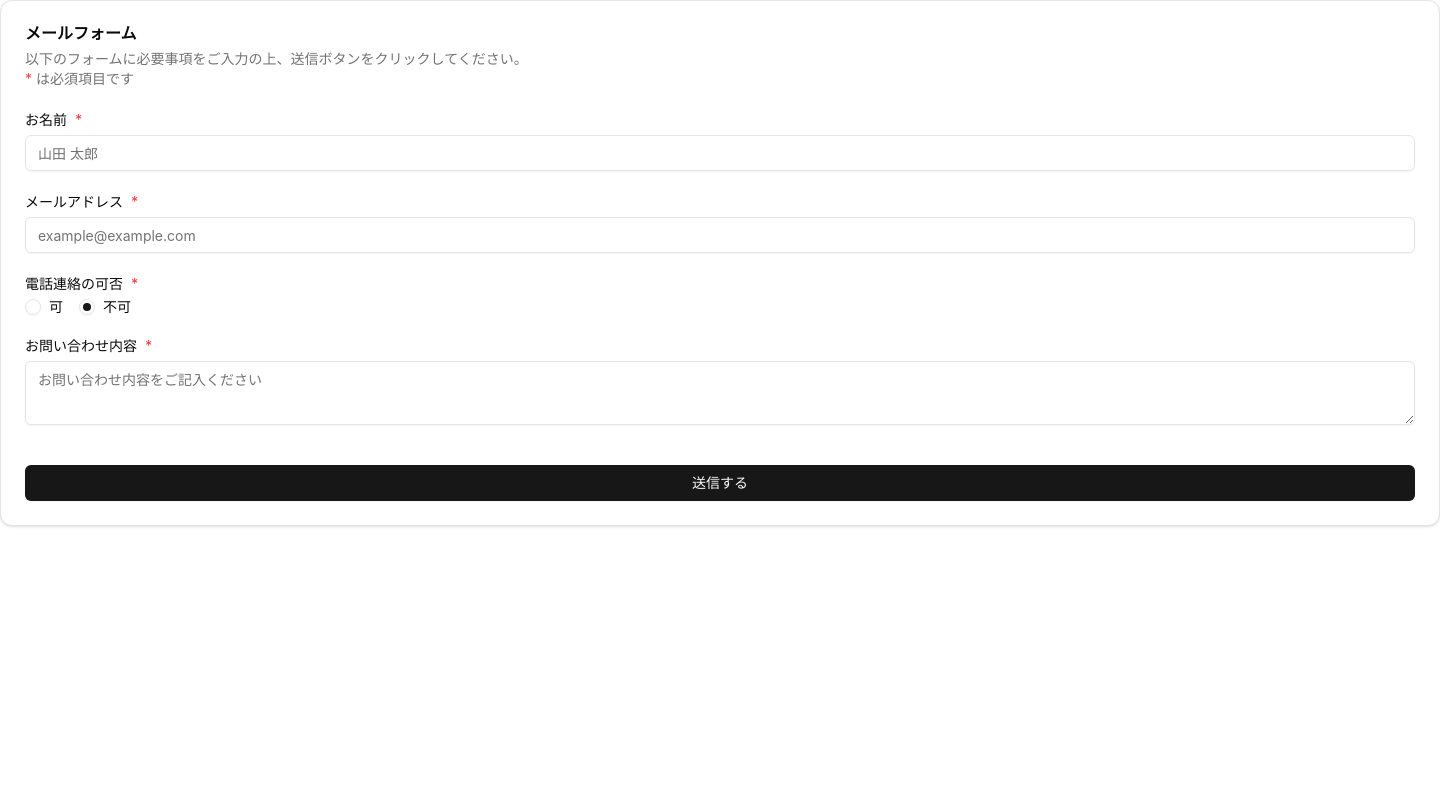
Test: ContactEmailForm › Conditional Display of Phone Number Field › shows phone number field with asterisk when "可" is selected
Expected: the field labelled "電話番号" is not shown
Click the 1st radio button named "可".
click(33, 307)  # box [25,299,41,315]
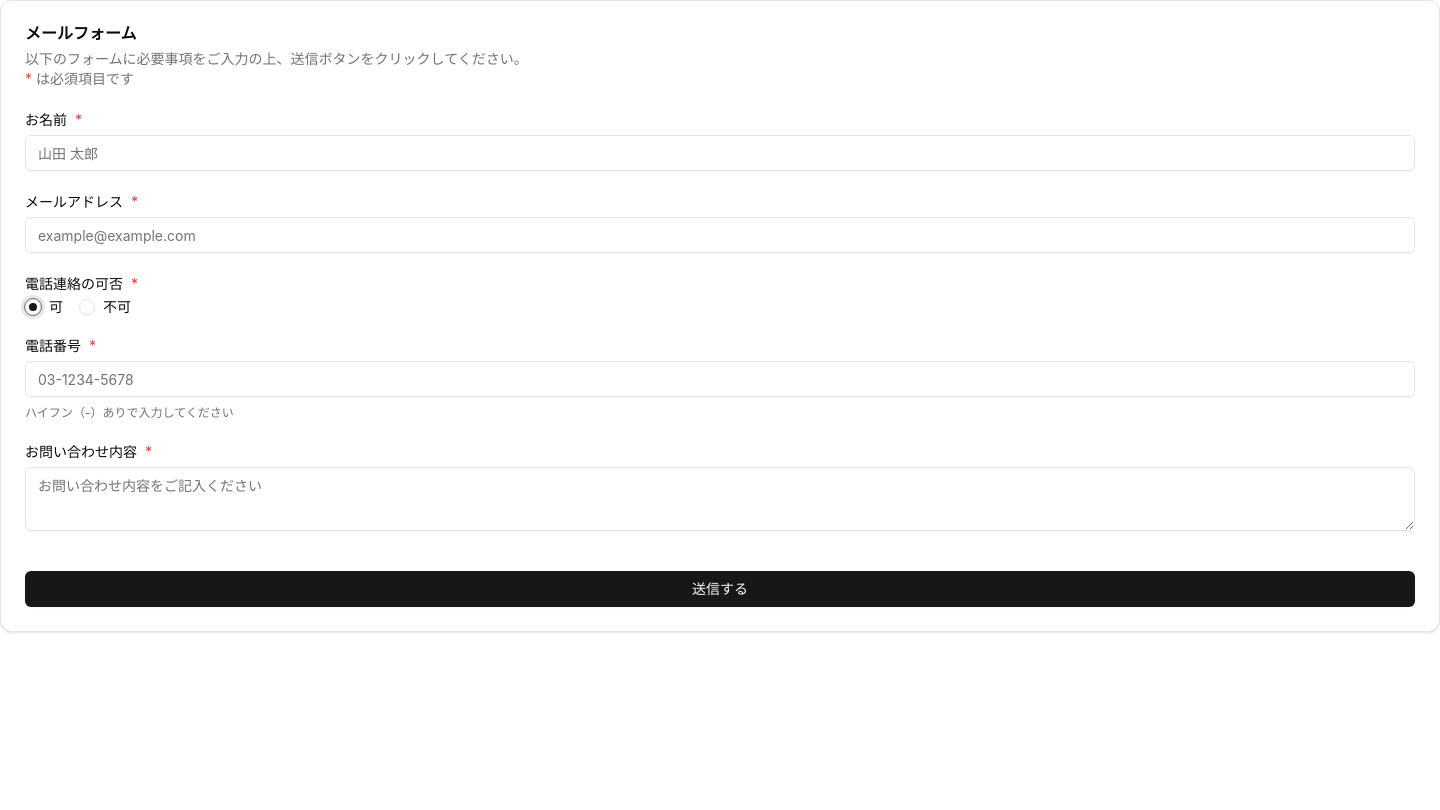
Now the field labelled "電話番号 *" is shown, box [25,361,1415,397]
